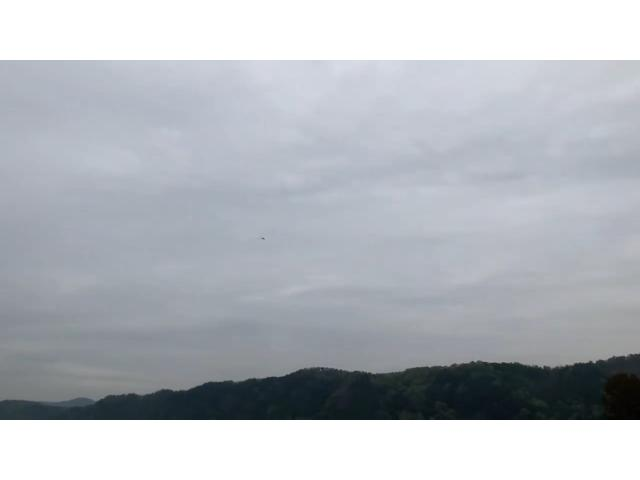Anti-Drone: (254, 230, 274, 244)
